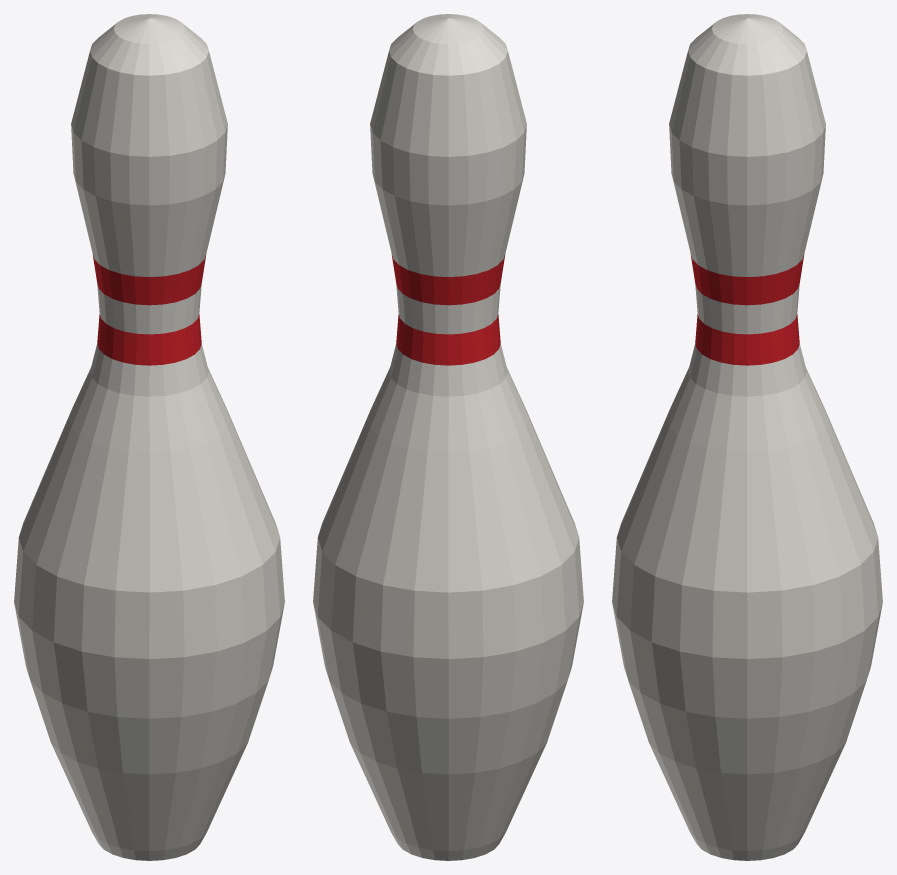
File: NEW_RECOVERY_005_LOD1.fbx
3 views of the same model, side by side, from view 1: azimuth 30°, elevation 25°; view 2: azimuth 150°, elevation 25°; view 3: azimuth 270°, elevation 25° (orthographic).
Parts seen in each view (by area): view 1: NEW_RECOVERY_005_LOD1; view 2: NEW_RECOVERY_005_LOD1; view 3: NEW_RECOVERY_005_LOD1.
Part boxes in pixels (x1,y1,x2,y2): NEW_RECOVERY_005_LOD1: (14, 14, 284, 860); NEW_RECOVERY_005_LOD1: (313, 14, 583, 860); NEW_RECOVERY_005_LOD1: (612, 14, 882, 860).
Bounding box in the file's own units: 11.4 × 11.4 × 38.1.
